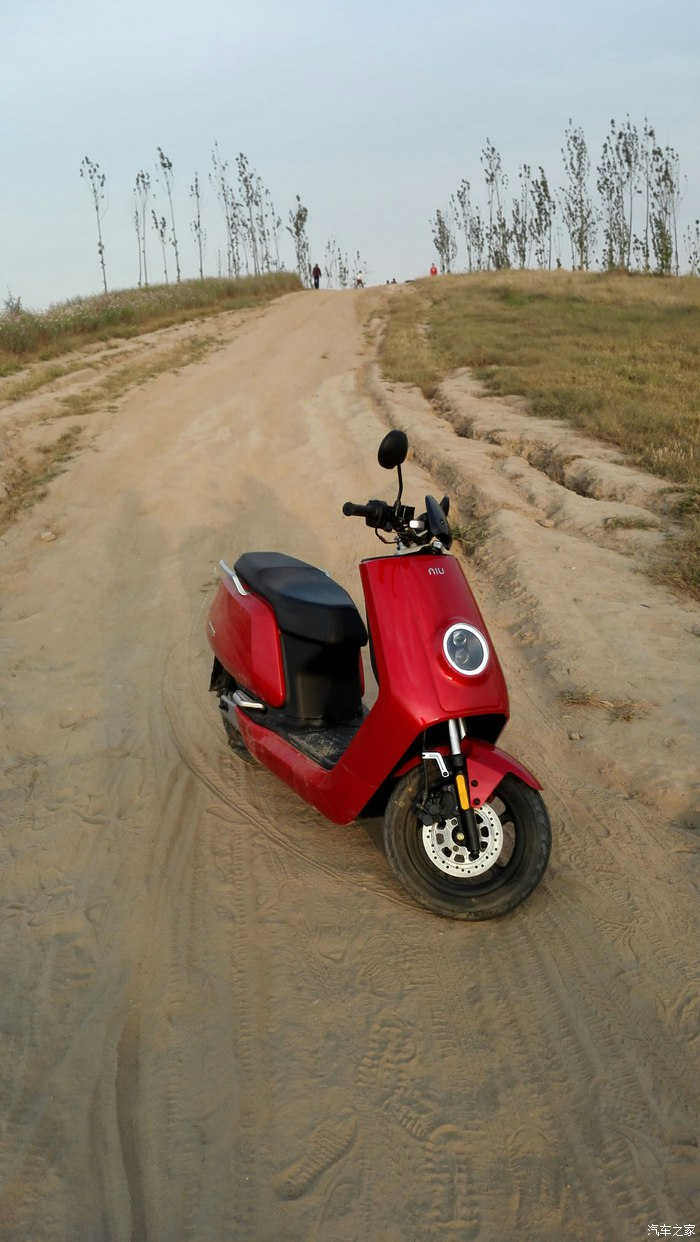电动车: (188, 417, 581, 952)
